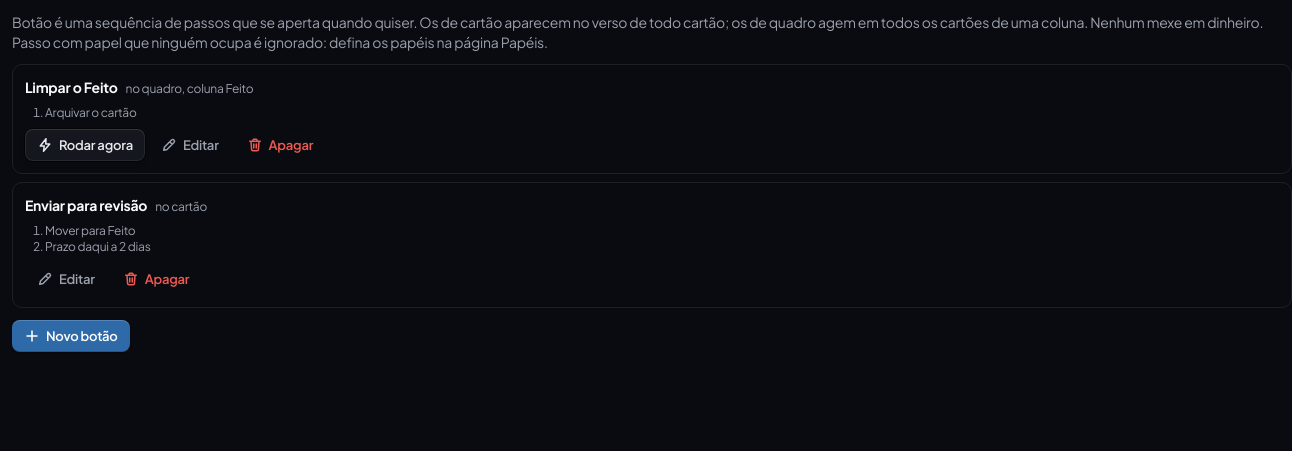
Test: página Botões › Rodar agora mostra "N afetados, M ignorados" e os motivos
Click the button "Rodar agora" at (85, 145), box left=25, top=129, right=145, bottom=161
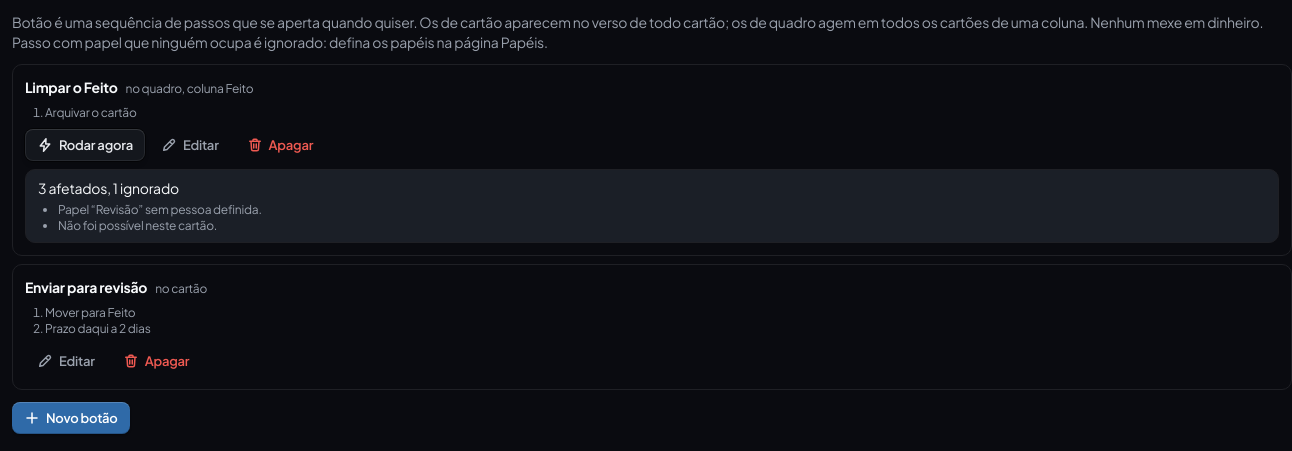
Now the text "3 afetados, 1 ignorado" is shown, box left=38, top=179, right=179, bottom=197
Now the list item "Papel “Revisão” sem pessoa definida." is shown, box left=58, top=202, right=262, bottom=217
Now the list item "Não foi possível neste cartão." is shown, box left=58, top=218, right=217, bottom=233
